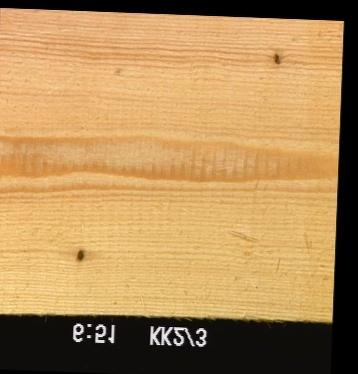dry_knot: (270, 52, 280, 67), (75, 247, 84, 262)
